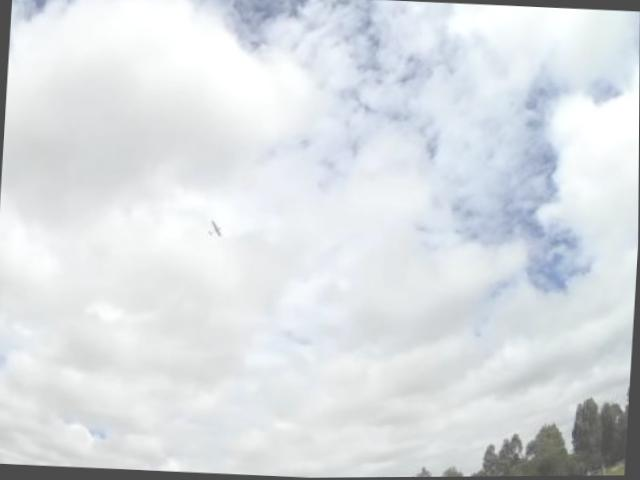uav: (202, 213, 232, 243)
